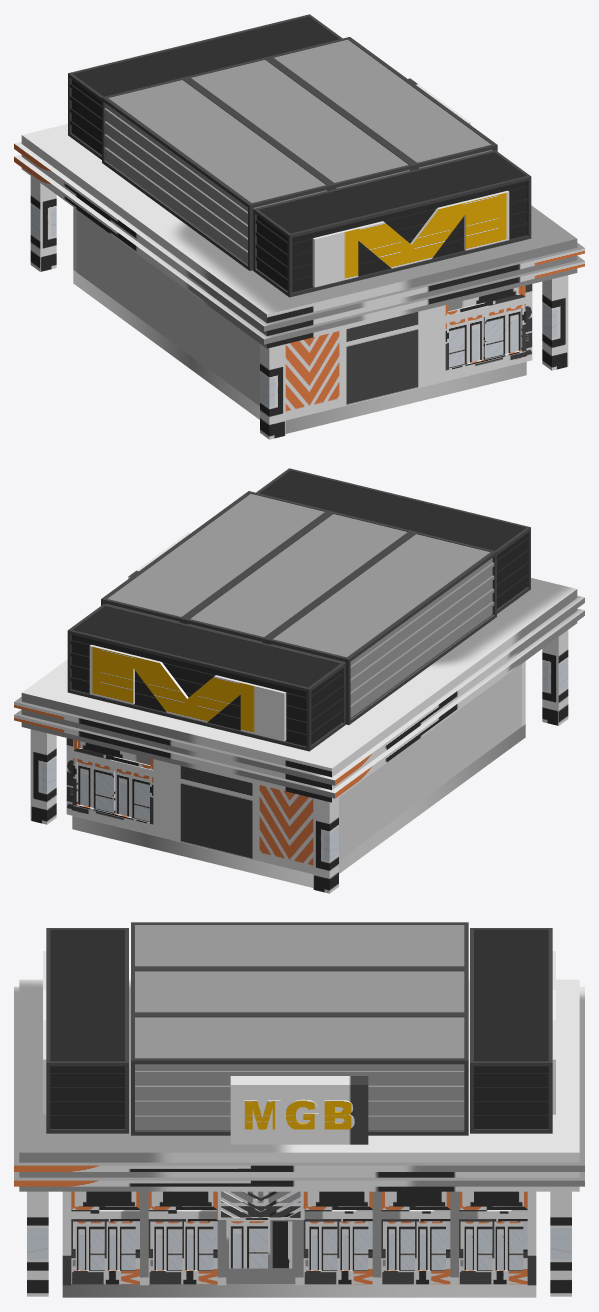
The model's file is 餐廳優化0126untitled 1.fbx.
3 views of the same model, one above another, from view 1: azimuth 30°, elevation 25°; view 2: azimuth 150°, elevation 25°; view 3: azimuth 270°, elevation 25° (orthographic). The views are drawn at different scales.
Visible parts, largest first — view 1: 貨櫃箱, 屋頂, 左側牆, 造型牆.002, 室內地板.006, 室內地板.002; view 2: 貨櫃箱, 屋頂, 右側牆, 造型牆.002, 室內地板.006, 室內地板.002; view 3: 貨櫃箱, 屋頂, 正門指示牌.004, 室內地板.006, 正門口, 正門指示牌.001, 右側牆, 左側牆.
Part boxes in pixels (bbox=[...]): 貨櫃箱: bbox=[68, 14, 531, 297]; 屋頂: bbox=[14, 78, 584, 439]; 左側牆: bbox=[285, 284, 532, 420]; 造型牆.002: bbox=[128, 248, 259, 406]; 室內地板.006: bbox=[73, 270, 526, 433]; 室內地板.002: bbox=[77, 210, 128, 309]; 貨櫃箱: bbox=[67, 468, 530, 751]; 屋頂: bbox=[14, 532, 584, 893]; 右側牆: bbox=[66, 738, 313, 874]; 造型牆.002: bbox=[373, 664, 521, 834]; 室內地板.006: bbox=[72, 724, 525, 887]; 室內地板.002: bbox=[339, 773, 373, 860]; 貨櫃箱: bbox=[46, 922, 552, 1135]; 屋頂: bbox=[14, 951, 584, 1296]; 正門指示牌.004: bbox=[71, 1191, 527, 1285]; 室內地板.006: bbox=[62, 1284, 536, 1297]; 正門口: bbox=[226, 1220, 270, 1283]; 正門指示牌.001: bbox=[270, 1220, 295, 1283]; 右側牆: bbox=[527, 1191, 536, 1285]; 左側牆: bbox=[62, 1191, 71, 1285].
Size of the model in its own units: 1966 by 1218 by 2651.
